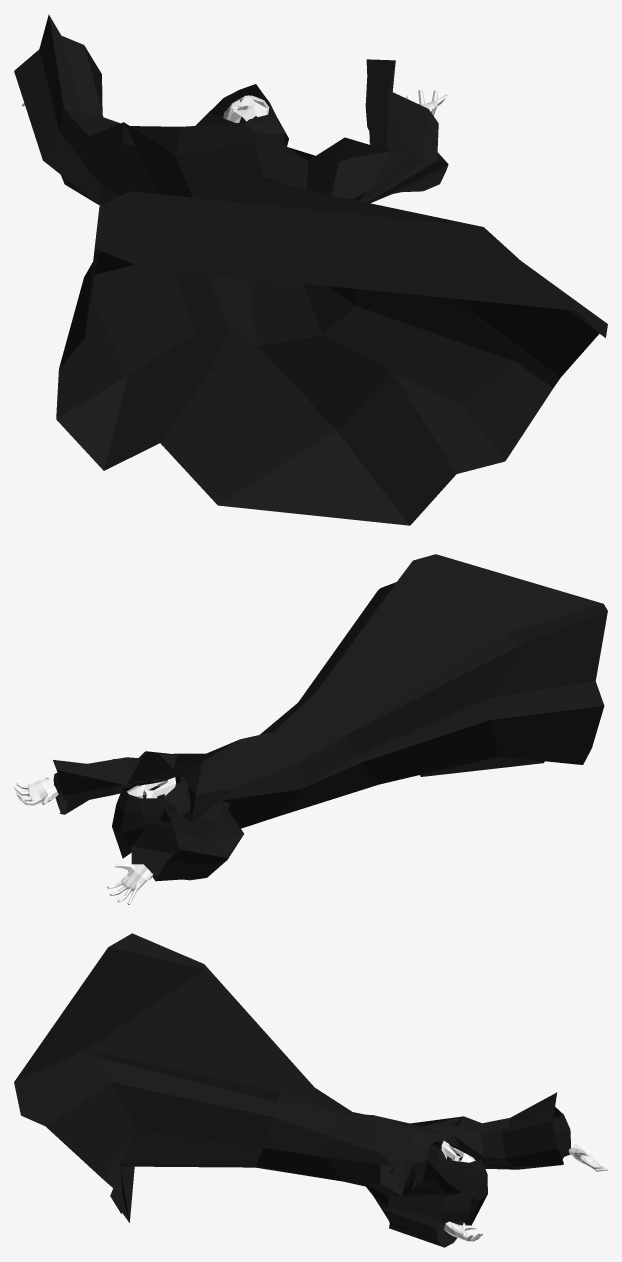
Rendered from ReaperDead(97).obj.
The picture shows the model from 3 angles, top to bottom: view 1: azimuth 30°, elevation 25°; view 2: azimuth 150°, elevation 25°; view 3: azimuth 270°, elevation 25°; orthographic projection. The views are drawn at different scales.
Parts seen in each view (by area): view 1: Plane003; view 2: Plane003; view 3: Plane003.
Boxes of the visible parts, bbox=[...] form: Plane003: bbox=[14, 14, 607, 525]; Plane003: bbox=[14, 554, 607, 904]; Plane003: bbox=[14, 933, 607, 1247].
Bounding box in the file's own units: 214 × 107 × 293.
